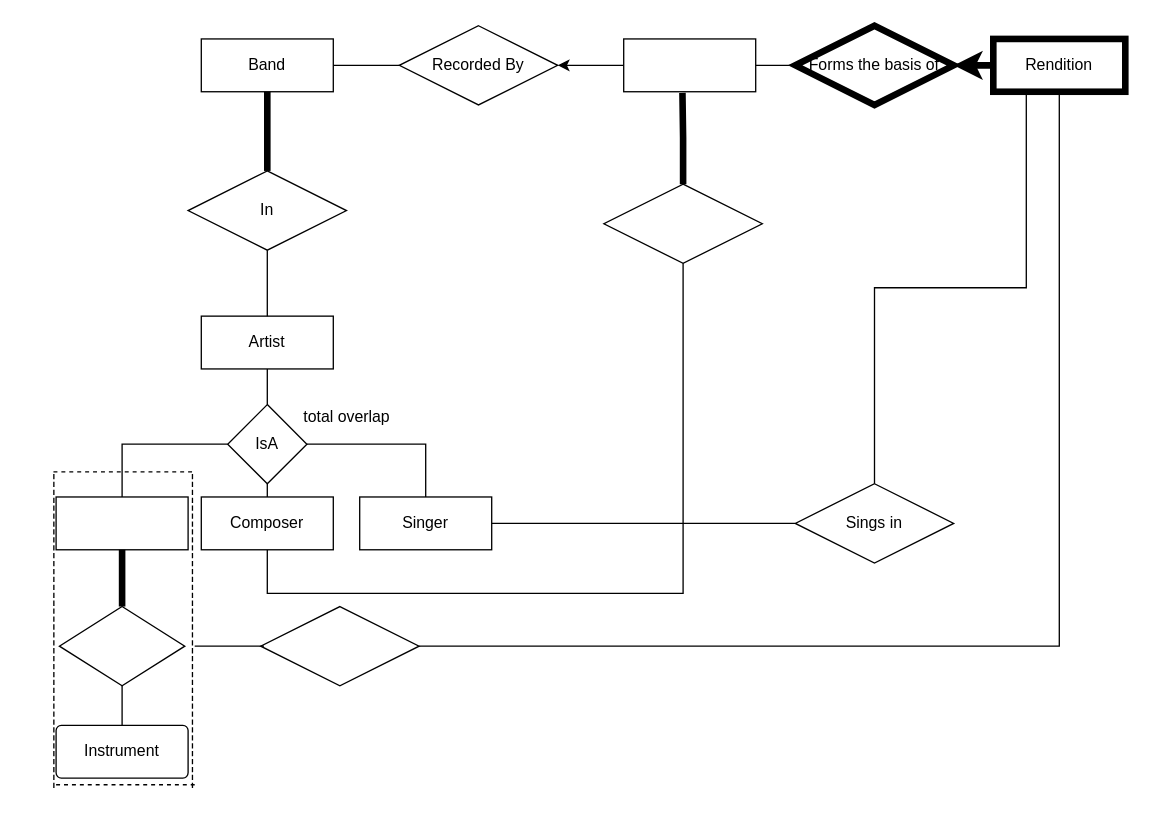
Some shapes in this 1151 by 814 pixel diagram are drawn without their labels. Each missing label, with the centre of its shape:
Associated with: point 682,223
Musician: point 121,523
Performed by: point 339,645
Plays: point 121,645
Song: point 689,65
